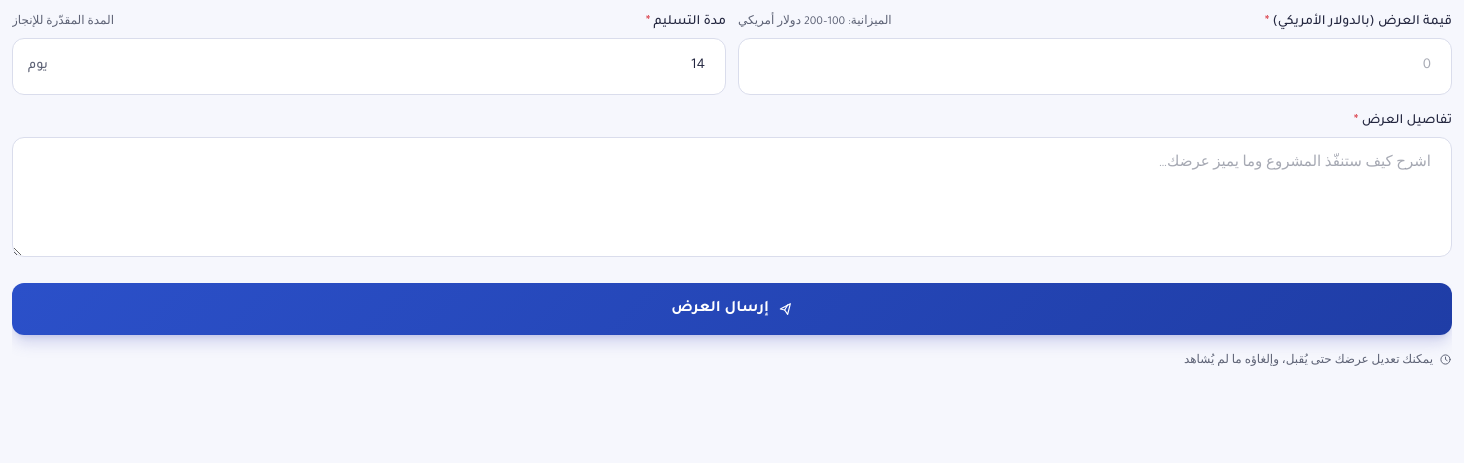
Test case: ProposalForm — client-side budget/delivery validation (P2-09 / P2-08) › rejects a delivery time over 365 days
Type "150" into the field labelled "قيمة العرض" at (1095, 66), box [738,38,1452,94]
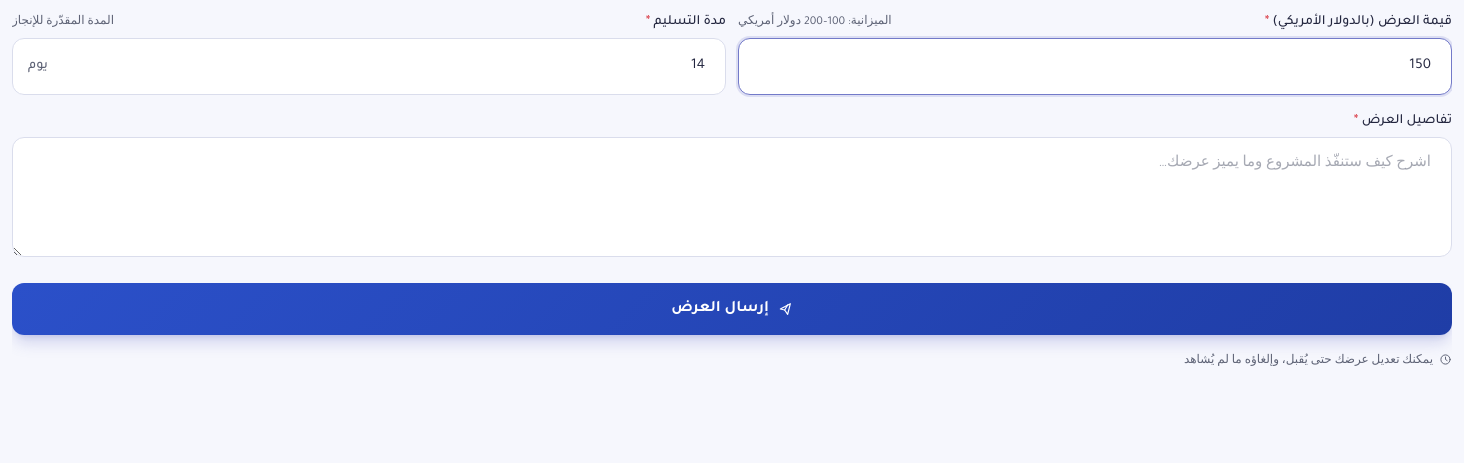
Replace the text in the field showing "14" with "400" at (369, 66), box [12,38,726,94]
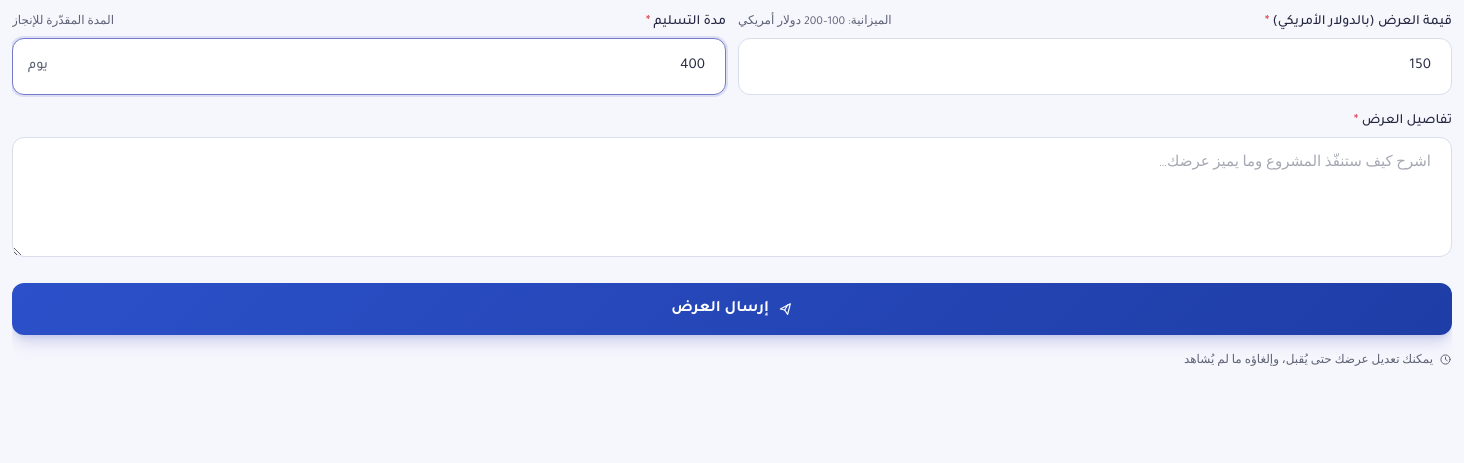
Type "خطة العمل" into the text box labelled "تفاصيل العرض *" at (732, 196), box [12,136,1452,256]
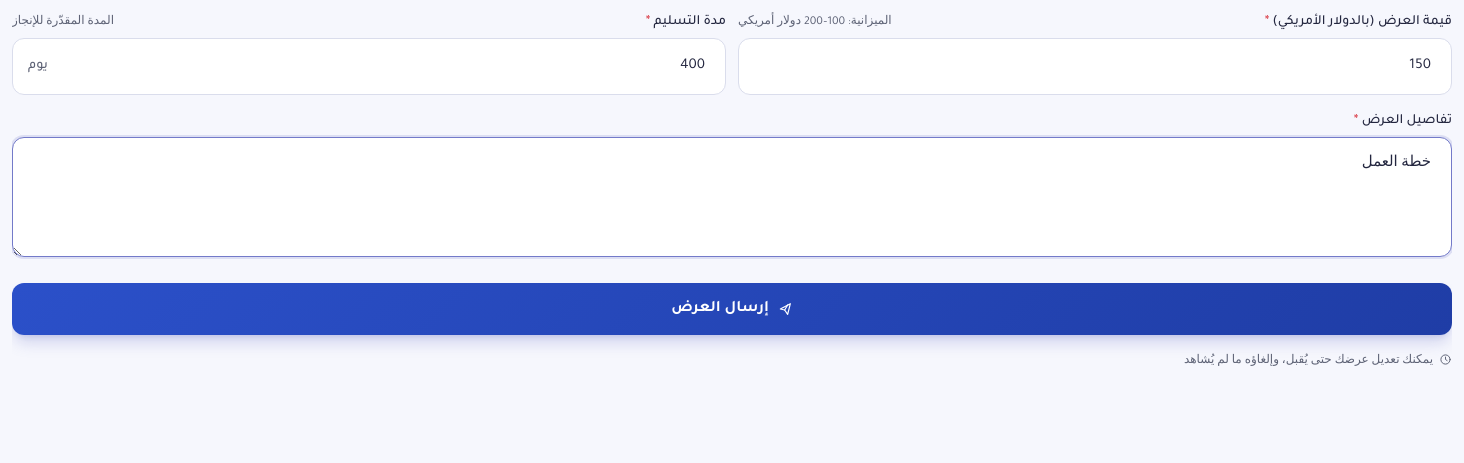
Click the button "إرسال العرض" at (732, 308), box [12,282,1452,334]
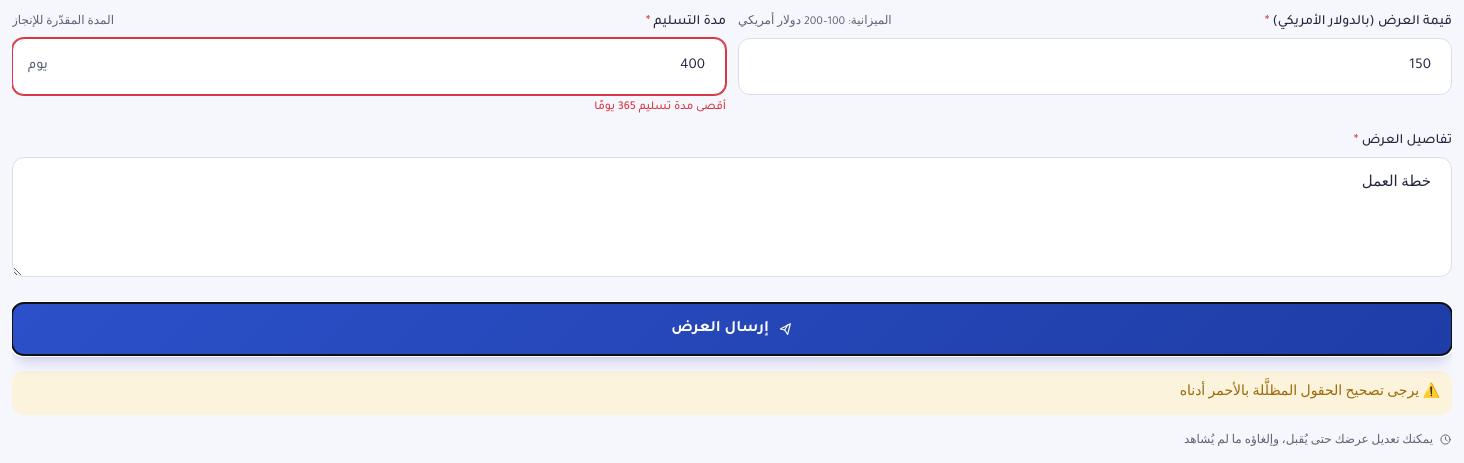
Expected: the text "أقصى مدة تسليم 365 يومًا" is shown, [594,100,726,112]
